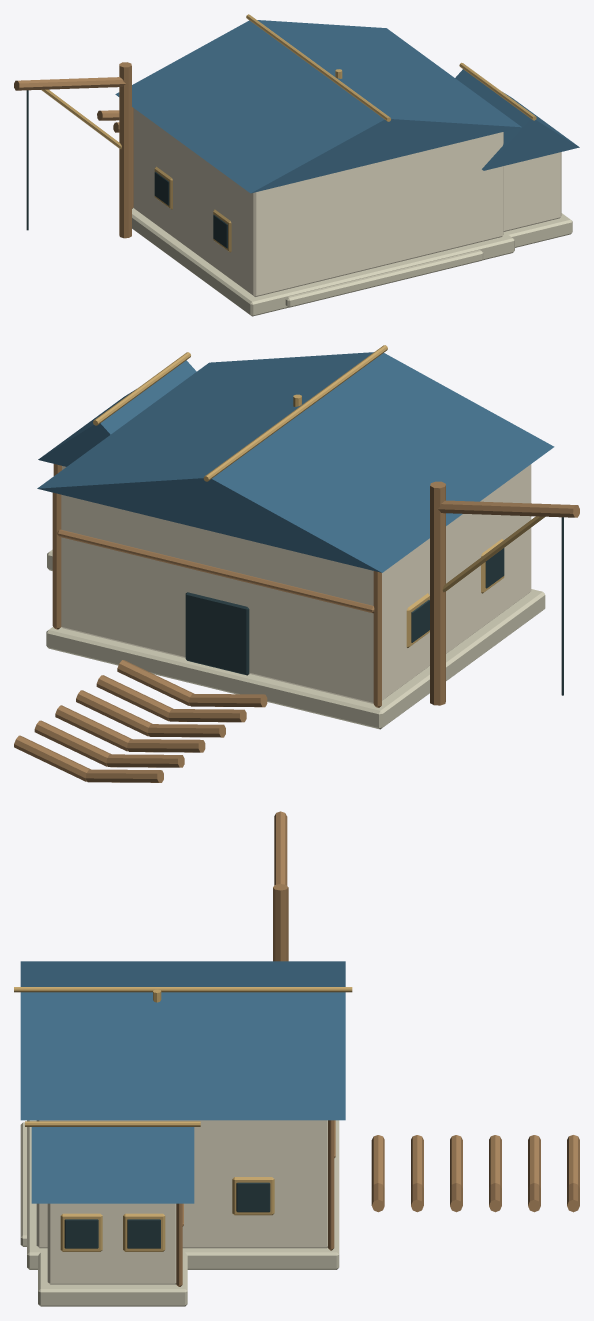
Rendered from level_15.glb.
3 renders of one model, top to bottom at view 1: azimuth 30°, elevation 25°; view 2: azimuth 150°, elevation 25°; view 3: azimuth 270°, elevation 25°, orthographic. The views are drawn at different scales.
Parts seen in each view (by area): view 1: shipyard — level 15; view 2: shipyard — level 15; view 3: shipyard — level 15.
Boxes of the visible parts, left/top/right/bottom form: shipyard — level 15: left=14, top=14, right=579, bottom=316; shipyard — level 15: left=14, top=345, right=579, bottom=782; shipyard — level 15: left=14, top=811, right=579, bottom=1306.
Bounding box in the file's own units: 9.81 × 3.91 × 8.7.
